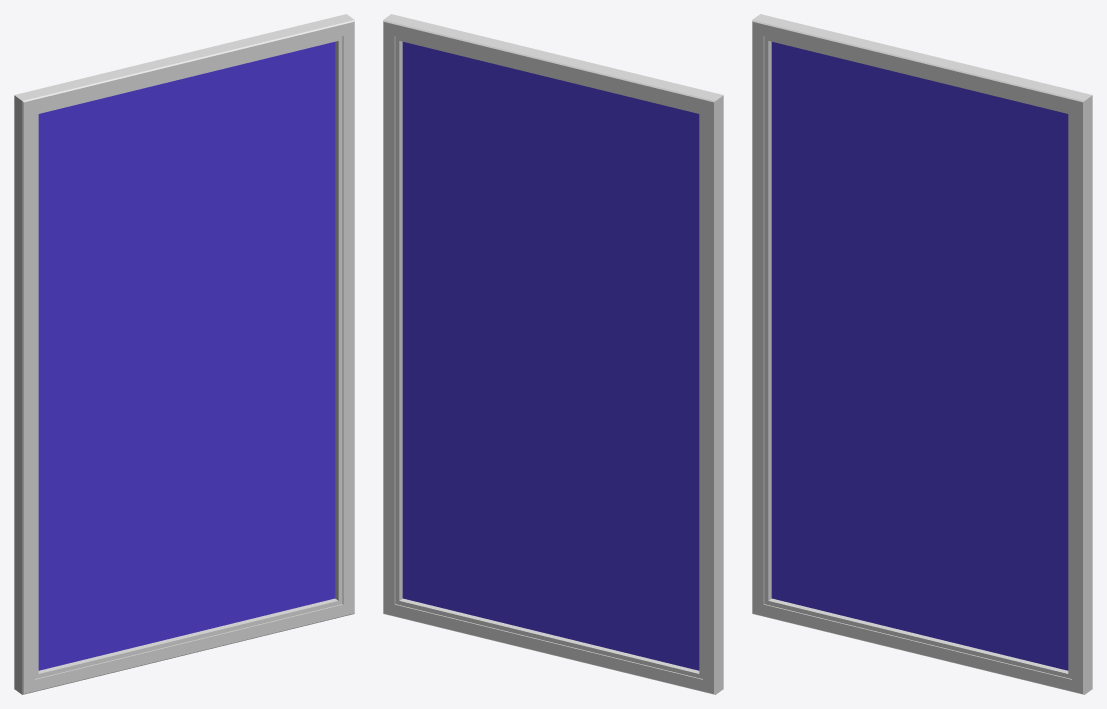
Rendered from Window_2.fbx.
3 views of the same model, side by side, from view 1: azimuth 30°, elevation 25°; view 2: azimuth 150°, elevation 25°; view 3: azimuth 330°, elevation 25° (orthographic).
Visible parts, largest first — view 1: Glass, Window; view 2: Glass, Window; view 3: Glass, Window.
Boxes of the visible parts, bbox=[...] form: Glass: bbox=[38, 42, 335, 670]; Window: bbox=[14, 14, 354, 694]; Glass: bbox=[402, 42, 699, 670]; Window: bbox=[383, 14, 723, 694]; Glass: bbox=[771, 42, 1068, 670]; Window: bbox=[752, 14, 1092, 694].
Bounding box in the file's own units: 123 × 210 × 6.
